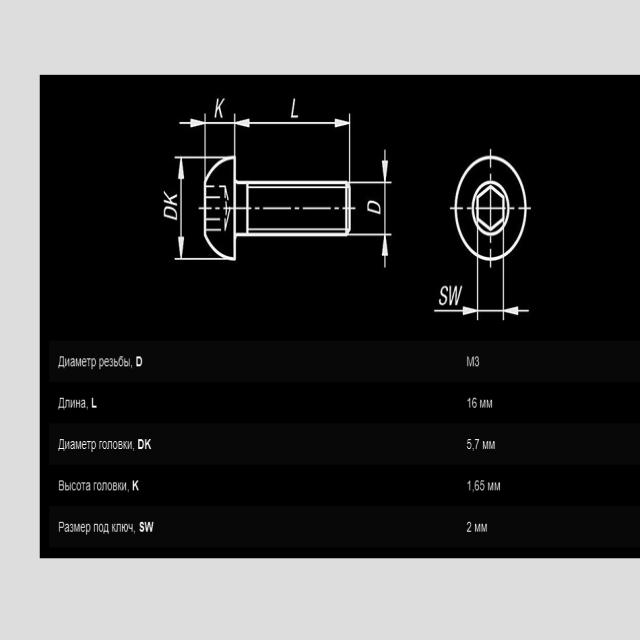marking_line: (236, 117, 349, 132), (176, 159, 189, 258), (433, 307, 478, 318), (379, 145, 390, 182), (381, 234, 391, 271), (179, 114, 202, 130), (504, 304, 528, 318)
